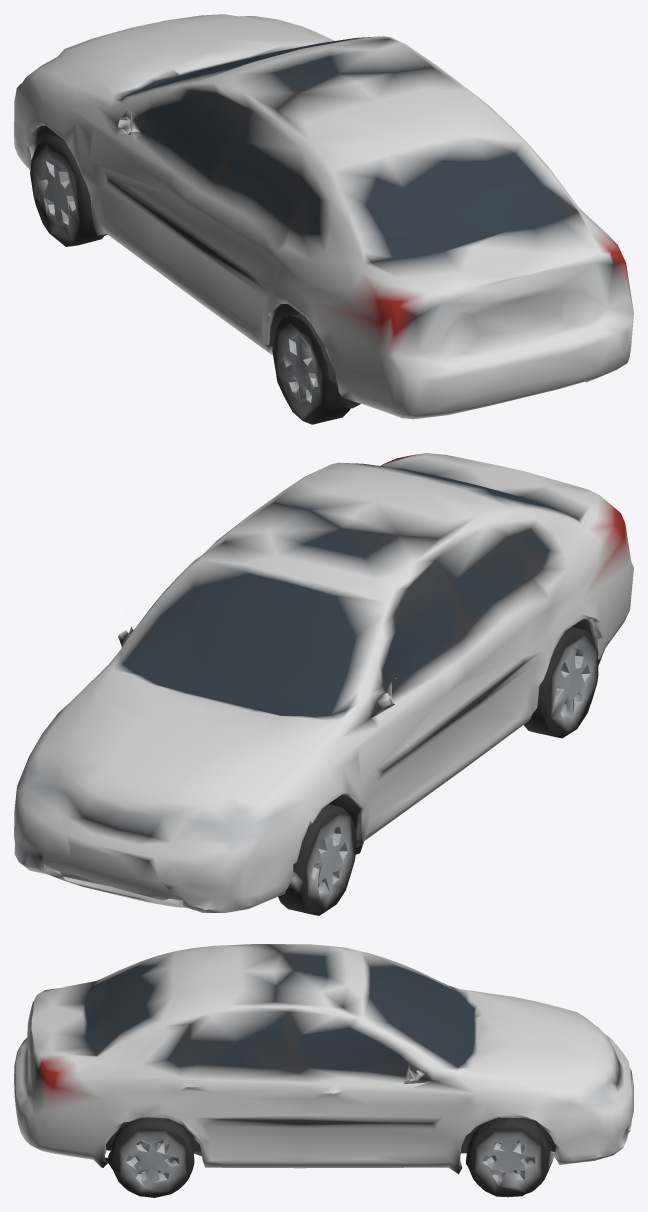
Rendered from gentra_parked.glb.
3 views of the same model, one above another, from view 1: azimuth 30°, elevation 25°; view 2: azimuth 150°, elevation 25°; view 3: azimuth 270°, elevation 25° (orthographic). The views are drawn at different scales.
Parts seen in each view (by area): view 1: CarParked; view 2: CarParked; view 3: CarParked.
Boxes of the visible parts, box(x1,y1,x2,y2) form: CarParked: box(14, 14, 633, 424); CarParked: box(14, 453, 633, 915); CarParked: box(14, 944, 633, 1197).
Size of the model in its own units: 1.93 by 1.45 by 4.52.
